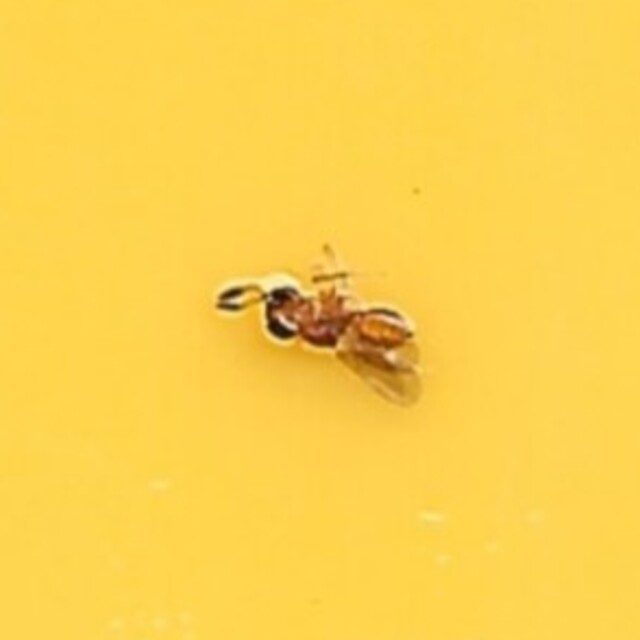Hymenoptera: (218, 256, 422, 384)
